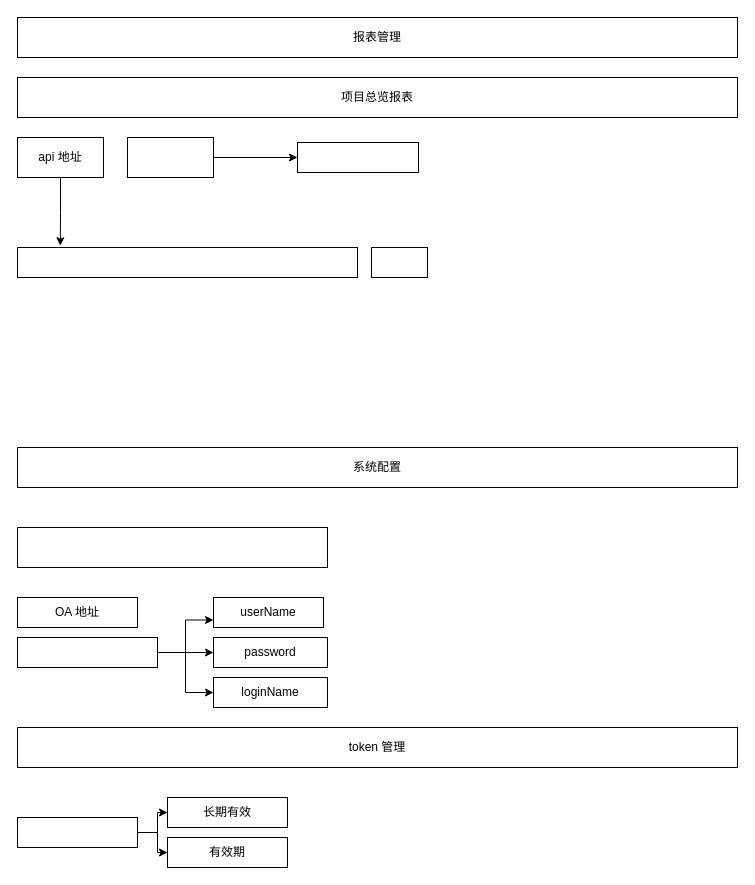
The diagram is 755 pixels wide and 885 high, and some of its shapes have lost their labels. The centre of each missing label's shape, as x and y in pixels:
http://aqweq.qweqwe.com/q/q/q?token=123123123132: the point at 187,262
OA 配置: the point at 172,547
rest账号: the point at 87,652
复制: the point at 399,262
报表配置: the point at 170,157
添加 token: the point at 77,832
